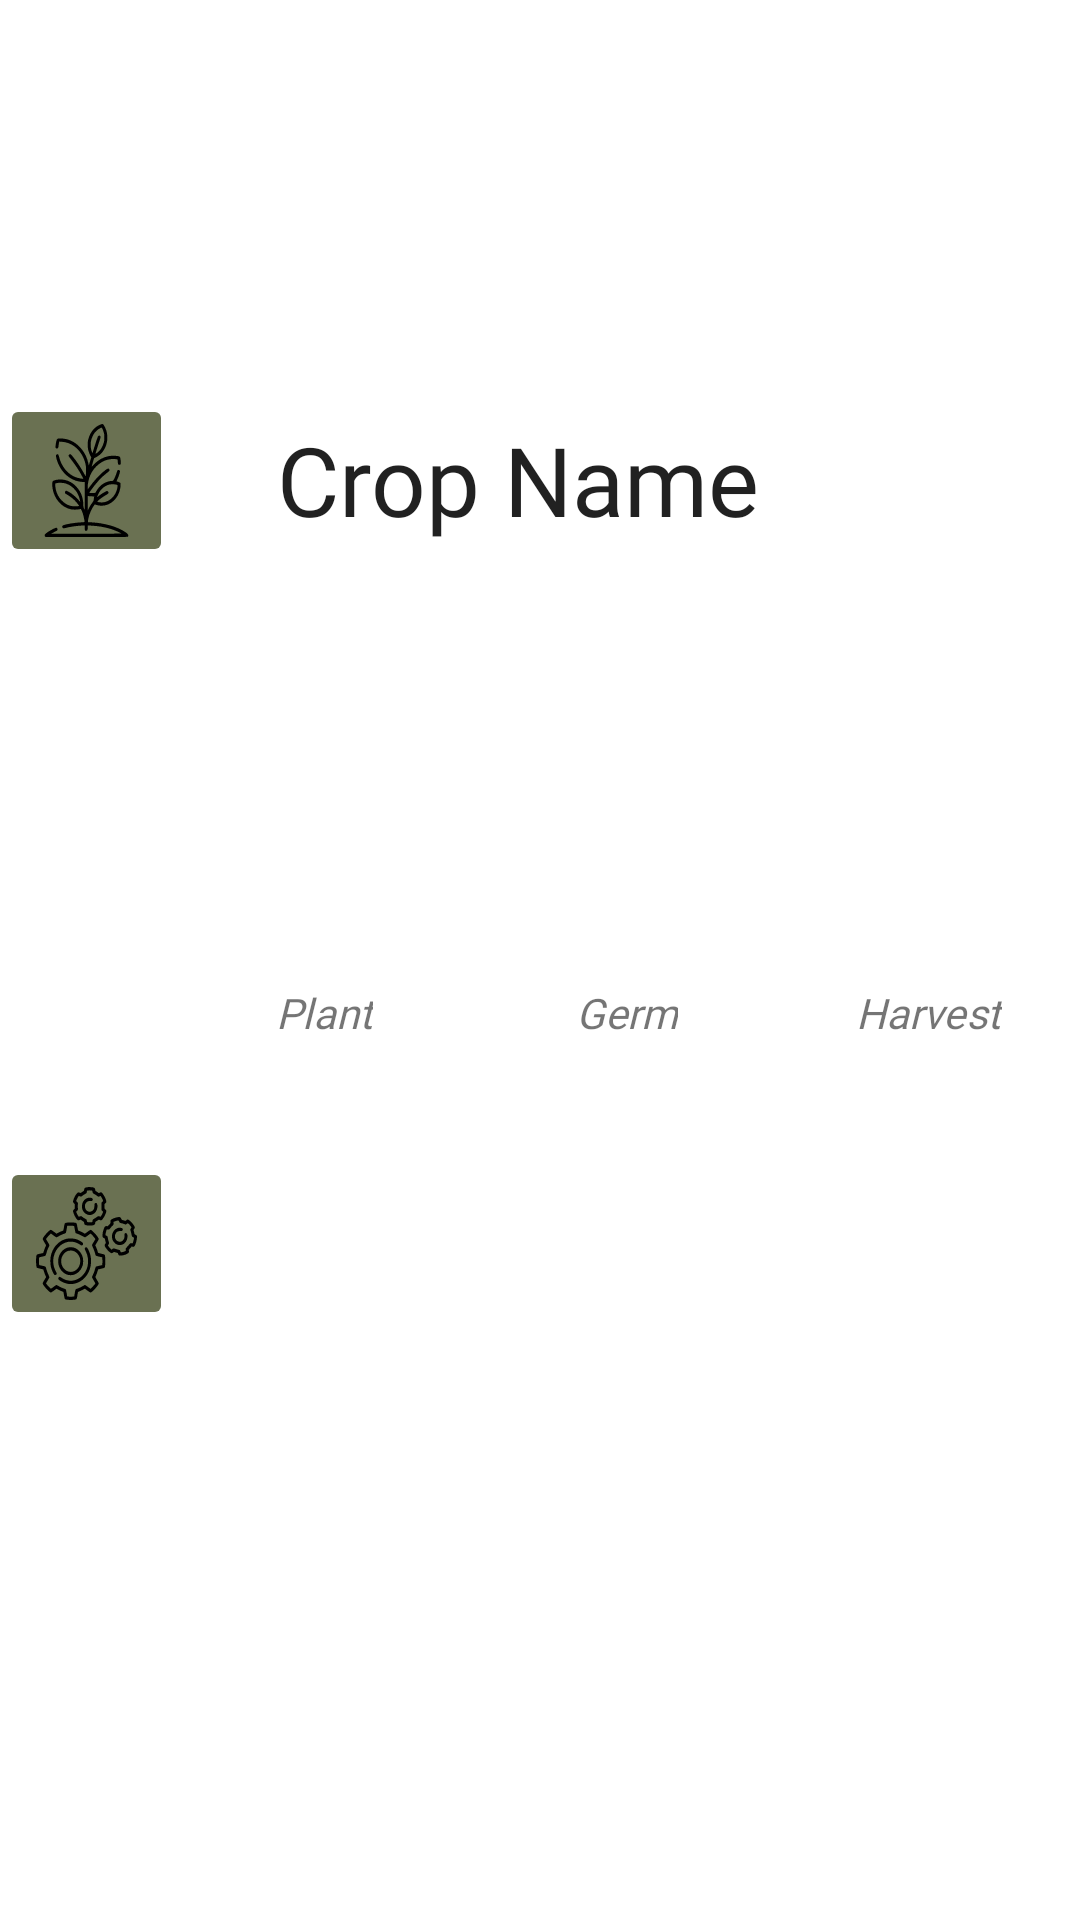

Where to tap for icons on this 1080 x 1920 app screen, as (x=x, y=y):
Crop Type: (x=86, y=480)
